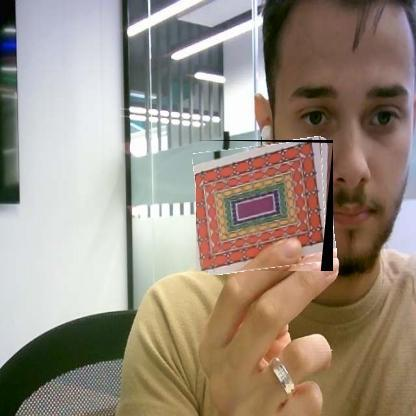BACK: (196, 140, 333, 271)
